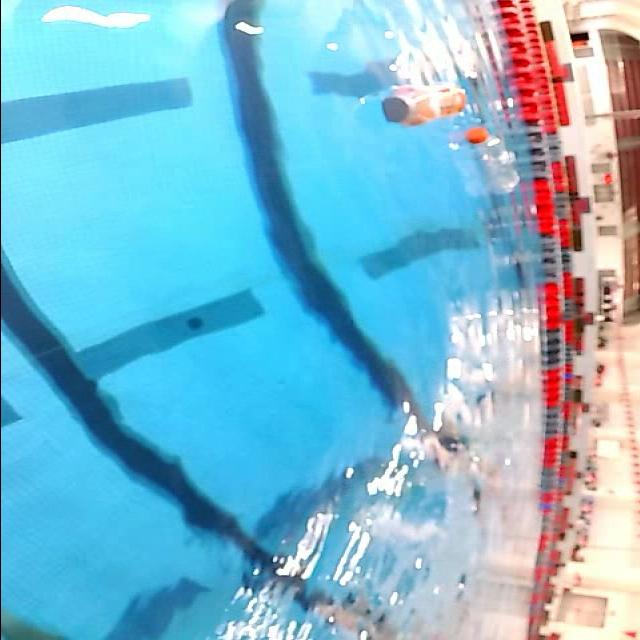Bottle: (454, 124, 528, 198), (376, 78, 472, 134)
